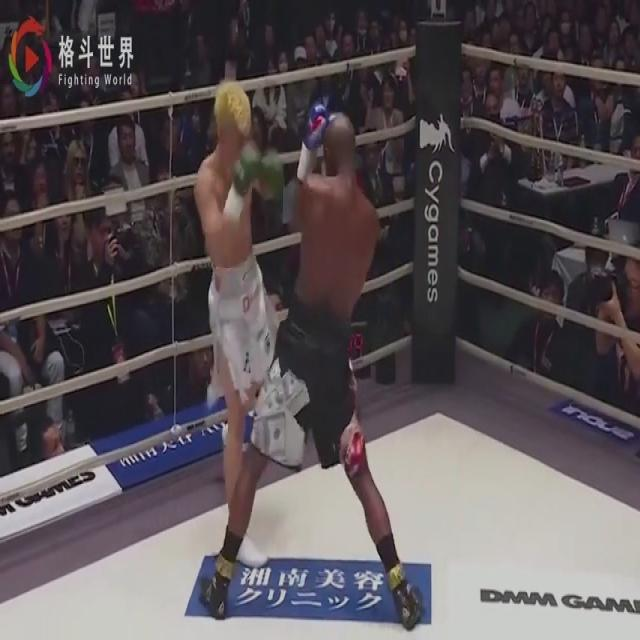fight: (188, 74, 426, 631)
